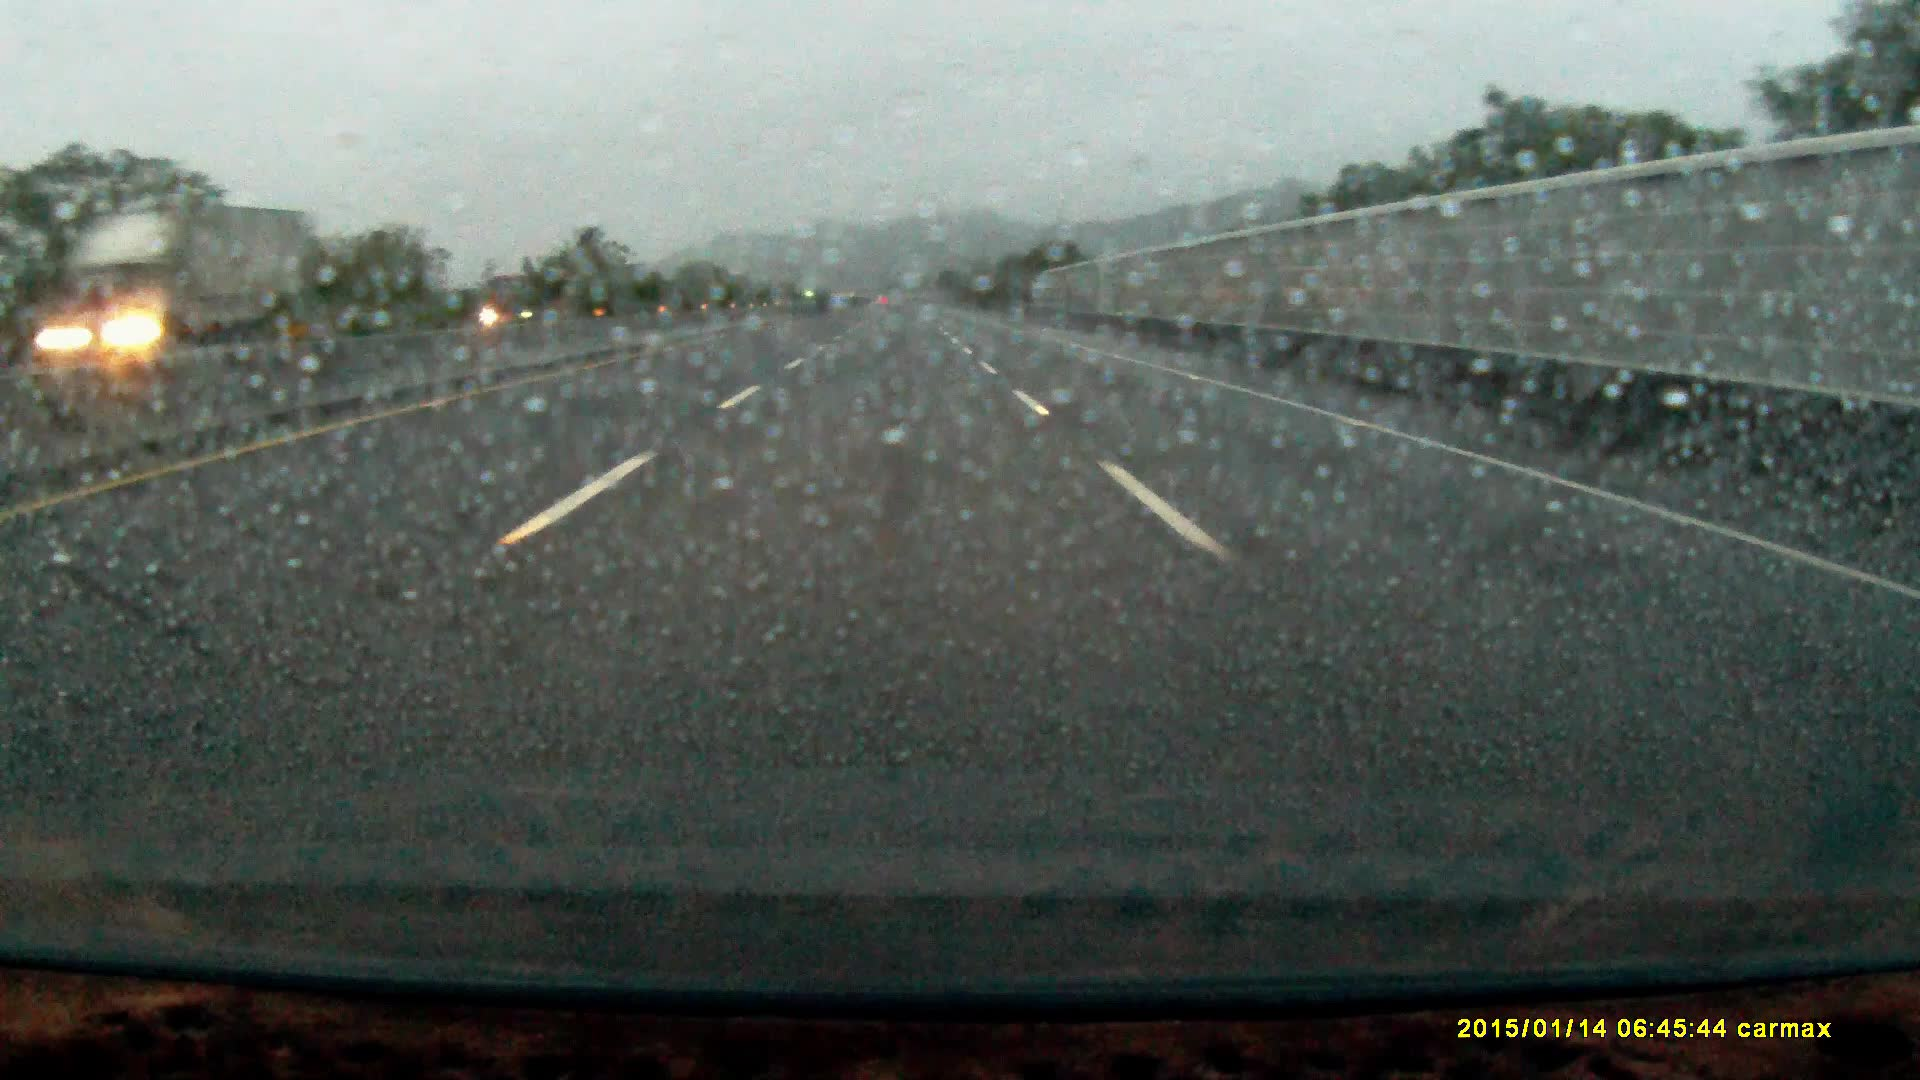vehicle: (37, 207, 295, 375), (488, 282, 582, 323)
